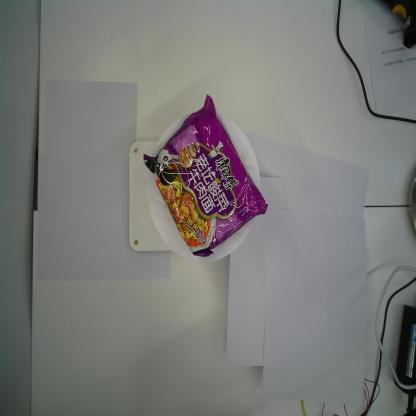Instant Noodles: (142, 92, 269, 261)
